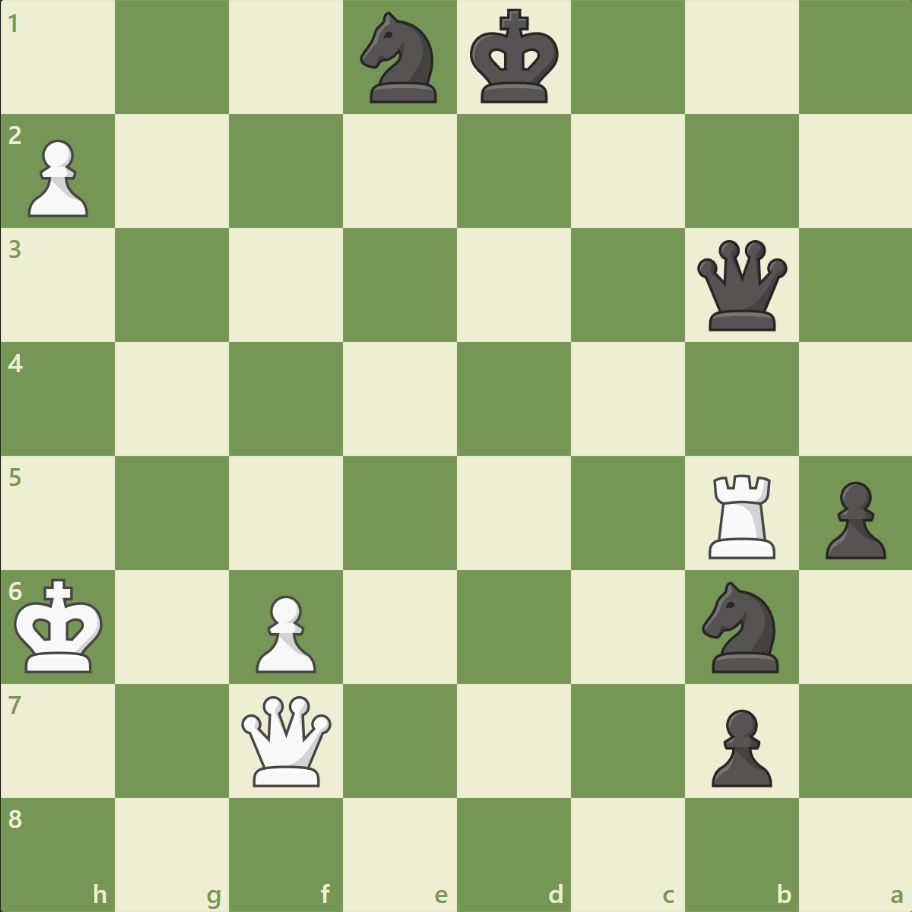K: (11, 571, 111, 679)
P: (247, 586, 322, 677), (20, 132, 95, 223)
Q: (237, 690, 336, 789)
R: (700, 466, 783, 563)
k: (465, 4, 565, 112)
n: (351, 7, 449, 110), (692, 575, 789, 677)
p: (701, 700, 776, 791), (815, 473, 889, 564)
q: (691, 236, 790, 335)
